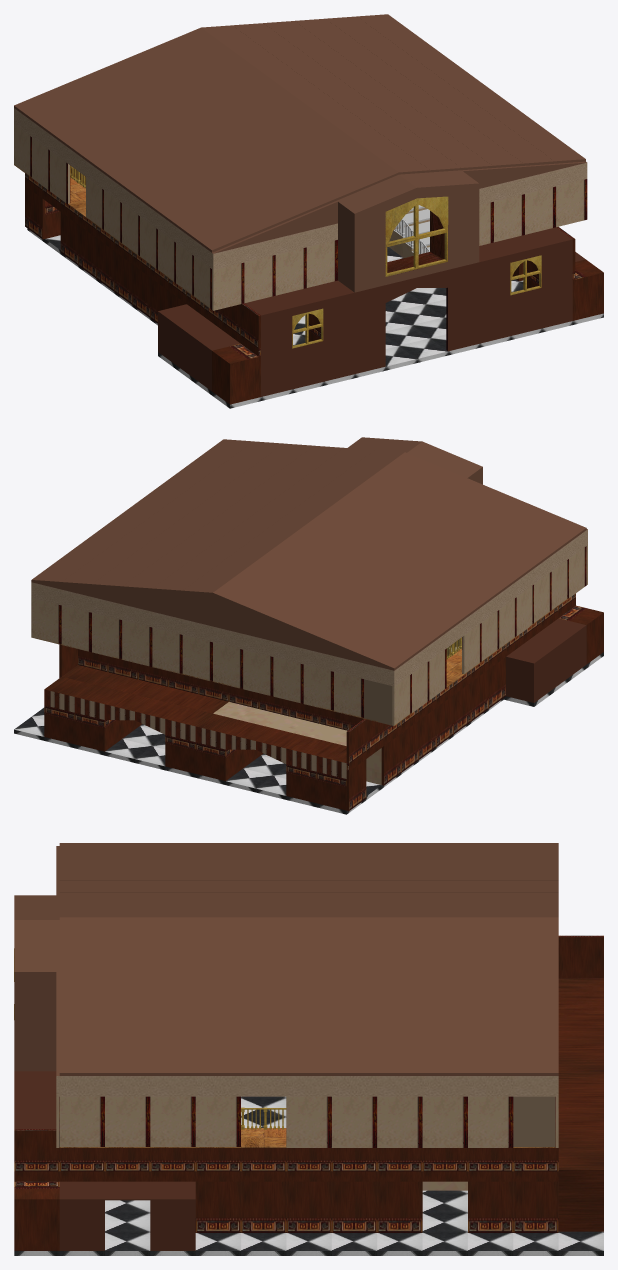
File: HallMain.fbx
The picture shows the model from 3 angles, top to bottom: view 1: azimuth 30°, elevation 25°; view 2: azimuth 150°, elevation 25°; view 3: azimuth 270°, elevation 25°; orthographic projection. The views are drawn at different scales.
Parts seen in each view (by area): view 1: HallRoofLeft, HallRoofRight, HallWallF1WindowEntrance, HallWallB0WindowLeft, HallWallB0WindowRight, HallFloorTiles, HallWallEntrance, HallWallF1Front, HallWallF1Left_1, HallWallF1Front.001, HallWallB0Left, HallWallB0BreakLeft (+16 smaller); view 2: HallRoofLeft, HallRoofRight, HallWallF1Back_2, HallWallB0TunnelRight.002, HallWallB0TunnelLeft, HallWallF3RooftopBack, HallWallF2Back_2, HallFloorTiles, HallWallB0Left, HallWallF1Left_1, HallWallB0BreakLeft, HallWallB1Back (+11 smaller); view 3: HallRoofRight, HallRoofLeft, HallFloorTiles, HallWallB1Right, HallWallB0Right, HallWallF1Right_2, HallWallF2Right_2, HallWallF1Right_2.001, HallWallF1WindowEntrance, HallWallB0BreakRight, HallWallB0TunnelRight.002, HallWallB1Right.001 (+8 smaller).
Boxes of the visible parts, <box> form: HallRoofLeft: <box>14,27,398,252</box>; HallRoofRight: <box>201,14,585,174</box>; HallWallF1WindowEntrance: <box>337,170,479,292</box>; HallWallB0WindowLeft: <box>245,280,354,396</box>; HallWallB0WindowRight: <box>479,227,572,343</box>; HallFloorTiles: <box>27,228,603,400</box>; HallWallEntrance: <box>354,262,479,373</box>; HallWallF1Front: <box>212,240,337,310</box>; HallWallF1Left_1: <box>86,177,211,309</box>; HallWallF1Front.001: <box>479,179,587,245</box>; HallWallB0Left: <box>60,212,186,323</box>; HallWallB0BreakLeft: <box>158,304,240,390</box>; HallRoofLeft: <box>213,452,586,670</box>; HallRoofRight: <box>31,439,404,594</box>; HallWallF1Back_2: <box>31,598,364,718</box>; HallWallB0TunnelRight.002: <box>44,677,212,773</box>; HallWallB0TunnelLeft: <box>195,713,346,810</box>; HallWallF3RooftopBack: <box>32,582,393,670</box>; HallWallF2Back_2: <box>33,583,395,686</box>; HallFloorTiles: <box>14,639,503,814</box>; HallWallB0Left: <box>381,657,505,785</box>; HallWallF1Left_1: <box>462,546,586,673</box>; HallWallB0BreakLeft: <box>506,618,586,702</box>; HallWallB1Back: <box>78,649,363,730</box>; HallRoofRight: <box>59,917,558,1075</box>; HallRoofLeft: <box>59,843,558,917</box>; HallFloorTiles: <box>14,1096,603,1255</box>; HallWallB1Right: <box>14,1129,558,1171</box>; HallWallB0Right: <box>195,1181,422,1232</box>; HallWallF1Right_2: <box>286,1096,513,1147</box>; HallWallF2Right_2: <box>59,1076,555,1096</box>; HallWallF1Right_2.001: <box>59,1096,240,1147</box>; HallWallF1WindowEntrance: <box>14,895,59,1071</box>; HallWallB0BreakRight: <box>59,1181,195,1250</box>; HallWallB0TunnelRight.002: <box>558,1074,603,1231</box>; HallWallB1Right.001: <box>14,1171,558,1181</box>.
Bounding box in the file's own units: 2400 × 1088 × 2601.
